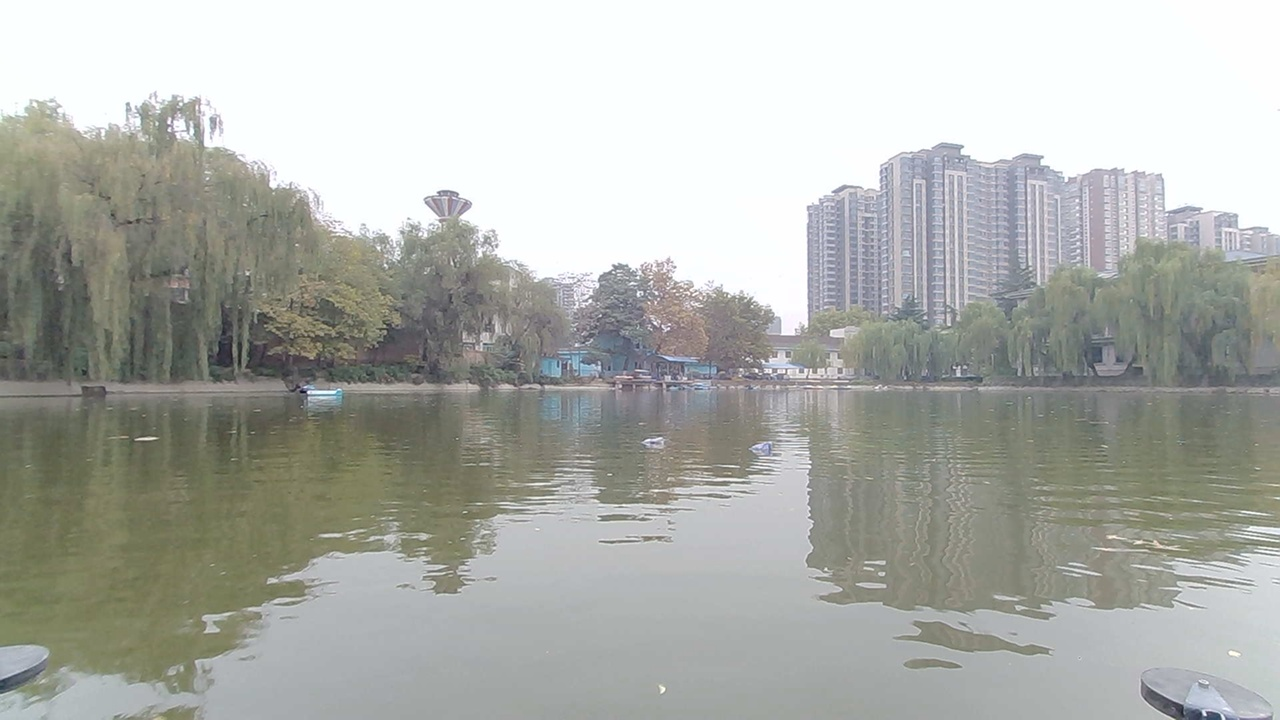bottle: (635, 425, 674, 451), (750, 440, 783, 457)
